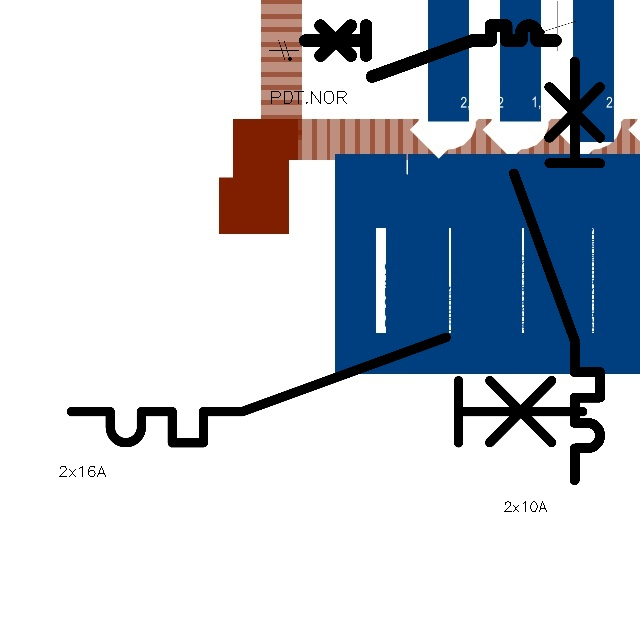interruptor_termomagnetico: (58, 324, 596, 456), (503, 50, 611, 490), (298, 19, 561, 83)
